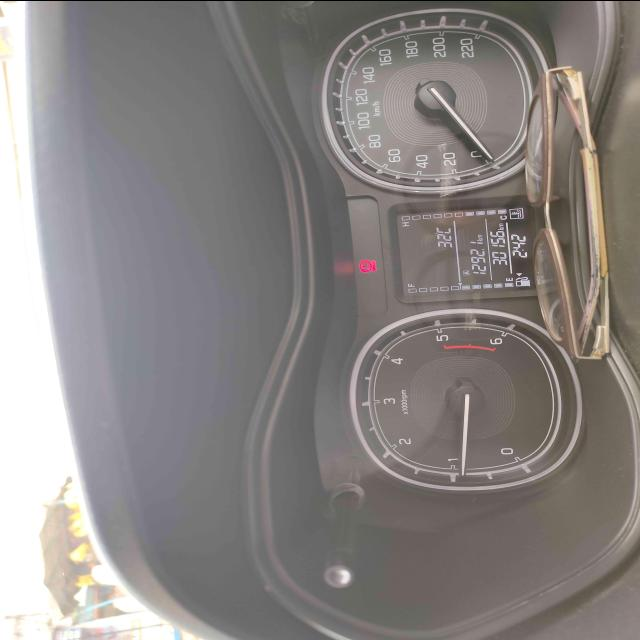Braking System Issue: (359, 258, 377, 272)
